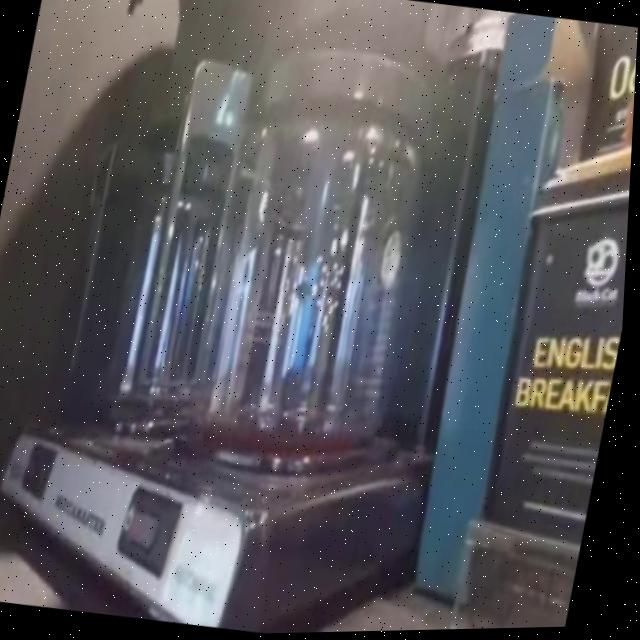nocoffee: (174, 123, 438, 454), (105, 203, 208, 410)
